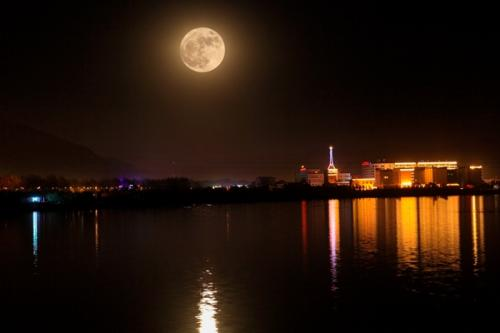moon: (179, 25, 225, 73)
